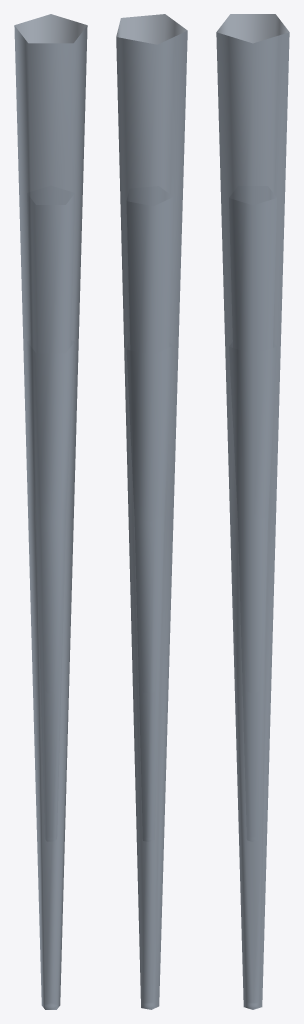
The model's file is Icicle.fbx.
3 renders of one model, left to right at view 1: azimuth 90°, elevation 25°; view 2: azimuth 210°, elevation 25°; view 3: azimuth 270°, elevation 25°, orthographic.
Visible parts, largest first — view 1: Icicle; view 2: Icicle; view 3: Icicle.
Boxes of the visible parts, left/top/right/bottom form: Icicle: left=14, top=14, right=87, bottom=1009; Icicle: left=116, top=14, right=187, bottom=1009; Icicle: left=216, top=14, right=289, bottom=1009.
Size of the model in its own units: 7.47 by 116 by 7.86.
